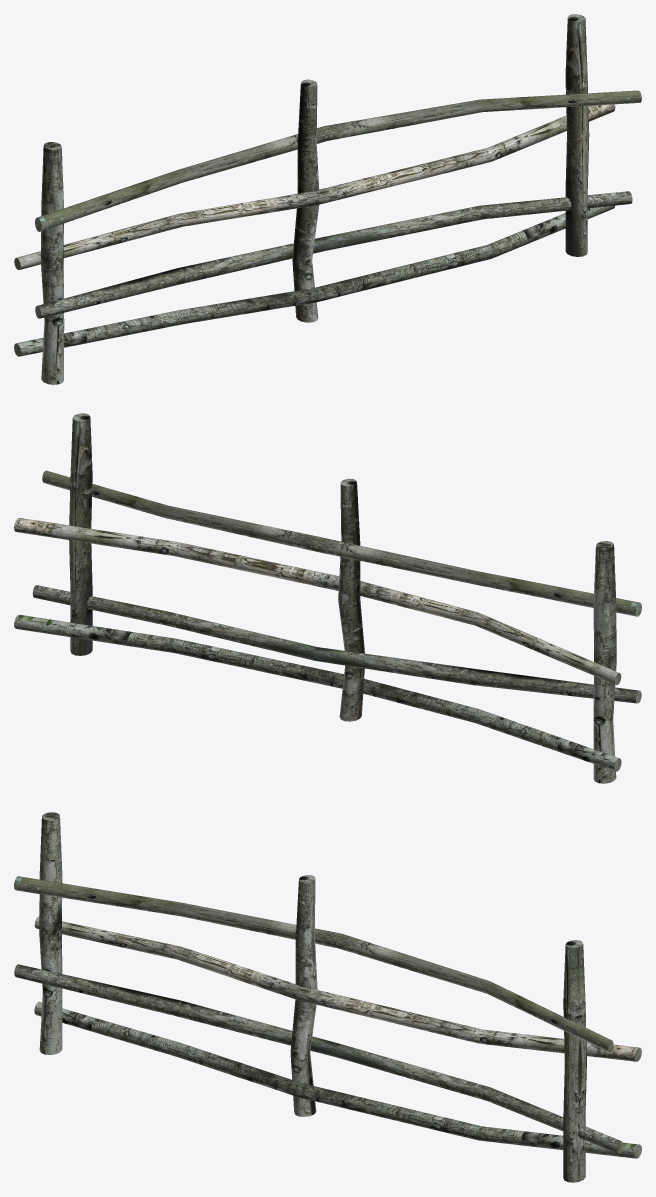
The model's file is fence2.obj.
3 renders of one model, top to bottom at view 1: azimuth 30°, elevation 25°; view 2: azimuth 150°, elevation 25°; view 3: azimuth 330°, elevation 25°, orthographic.
Visible parts, largest first — view 1: fence; view 2: fence; view 3: fence.
Part boxes in pixels (x1,y1,x2,y2): fence: (14, 14, 641, 384); fence: (14, 413, 641, 783); fence: (14, 812, 641, 1182).
Size of the model in its own units: 116 by 43.34 by 11.4.
Materials: 1 (1 with a texture image).
